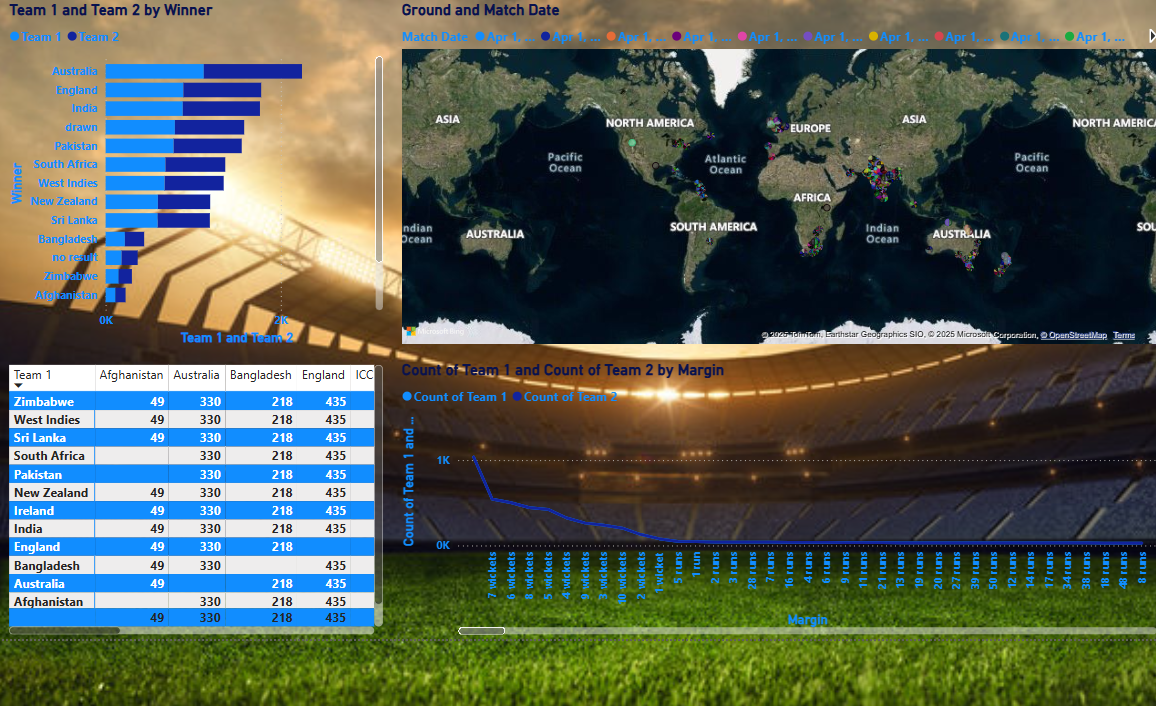

Layout of this report page (visuals, bound fields, positions):
{"tool":"powerbi","page":{"name":"Page 2","canvas":[1280,720],"ordinal":1},"visuals":[{"type":"barChart","fields":{"Category":["Cricket-all-teams-all-matches Dataset.Winner"],"Y":["CountNonNull(Cricket-all-teams-all-matches Dataset.Team 1)","CountNonNull(Cricket-all-teams-all-matches Dataset.Team 2)"]},"box":[9.6,19.2,419.9,382.8],"z":0},{"type":"pivotTable","fields":{"Rows":["Cricket-all-teams-all-matches Dataset.Team 1"],"Columns":["Cricket-all-teams-all-matches Dataset.Team 2"],"Values":["Cricket-all-teams-all-matches Dataset.WinsByTeam1"]},"box":[9.6,414.4,419.9,306],"z":1000},{"type":"map","fields":{"Category":["Cricket-all-teams-all-matches Dataset.Ground"],"Series":["Cricket-all-teams-all-matches Dataset.Match Date"]},"box":[440.5,19.2,839.8,382.8],"z":2000},{"type":"lineChart","fields":{"Category":["Cricket-all-teams-all-matches Dataset.Margin"],"Y":["CountNonNull(Cricket-all-teams-all-matches Dataset.Team 1)","CountNonNull(Cricket-all-teams-all-matches Dataset.Team 2)"]},"box":[440.5,414.4,839.8,306],"z":3000}]}

Visuals, with their boxes on the page's 1280x720 design canvas (x1, y1, x2, y2). These are canvas units, not pixel positions in the 1156x706 screenshot, which may show the page scaled, cropped or inside an application window:
barChart - Cricket-all-teams-all-matches Dataset.Winner x CountNonNull(Cricket-all-teams-all-matches Dataset.Team 1): [left=10, top=19, right=430, bottom=402]
pivotTable - Cricket-all-teams-all-matches Dataset.Team 1 x Cricket-all-teams-all-matches Dataset.Team 2: [left=10, top=414, right=430, bottom=720]
map - Cricket-all-teams-all-matches Dataset.Ground x Cricket-all-teams-all-matches Dataset.Match Date: [left=440, top=19, right=1280, bottom=402]
lineChart - Cricket-all-teams-all-matches Dataset.Margin x CountNonNull(Cricket-all-teams-all-matches Dataset.Team 1): [left=440, top=414, right=1280, bottom=720]
